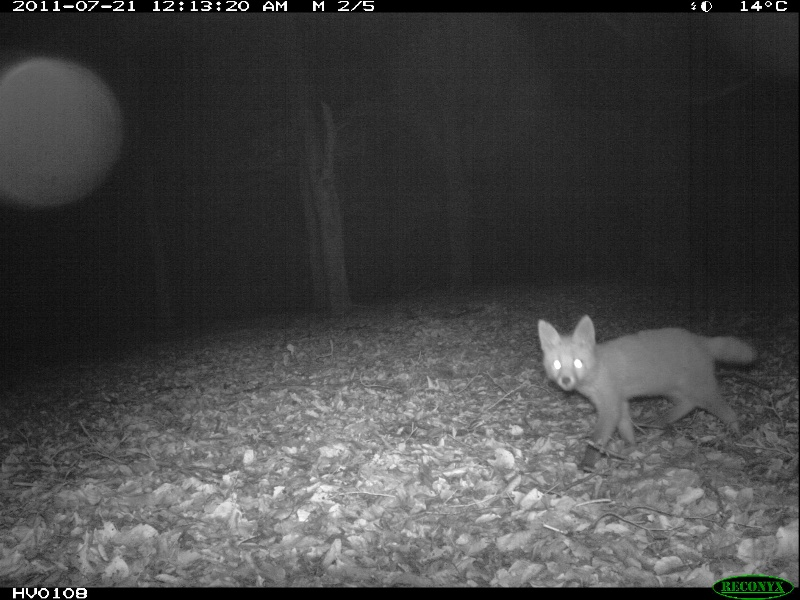fox: (526, 308, 763, 461)
